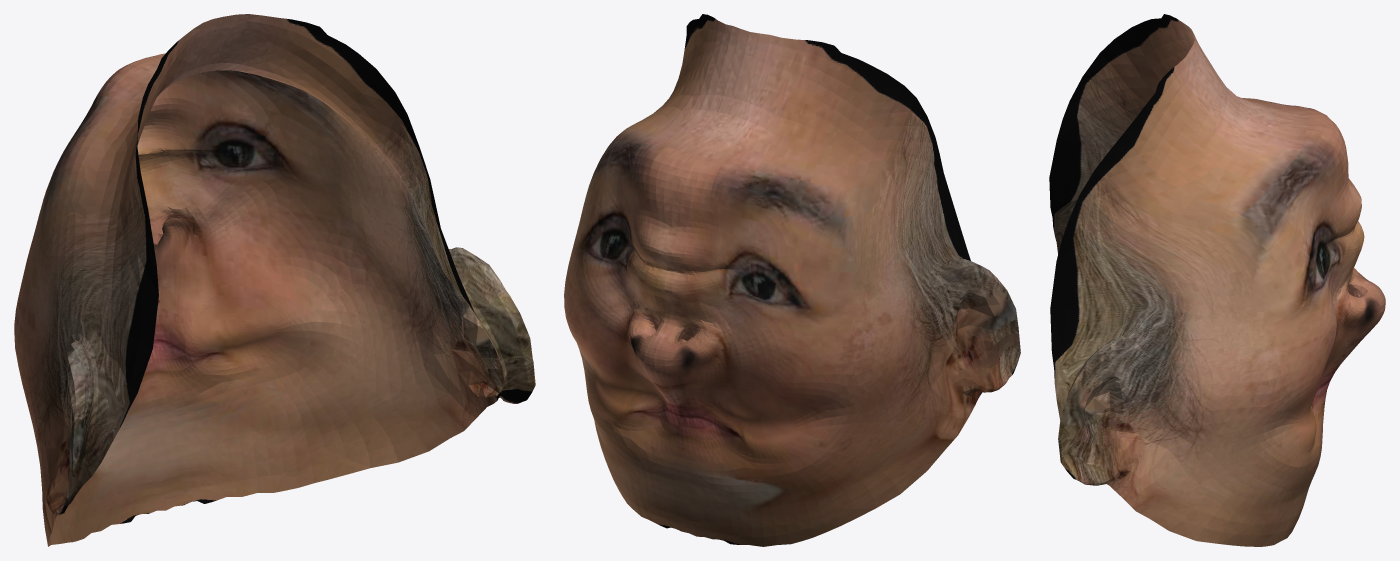
The model's file is crisalix_real_face.obj.
The picture shows the model from 3 angles, left to right: view 1: azimuth 30°, elevation 25°; view 2: azimuth 150°, elevation 25°; view 3: azimuth 270°, elevation 25°; orthographic projection. The views are drawn at different scales.
Bounding box in the file's own units: 18.02 × 19.76 × 12.8.
1 material, 1 textured.
